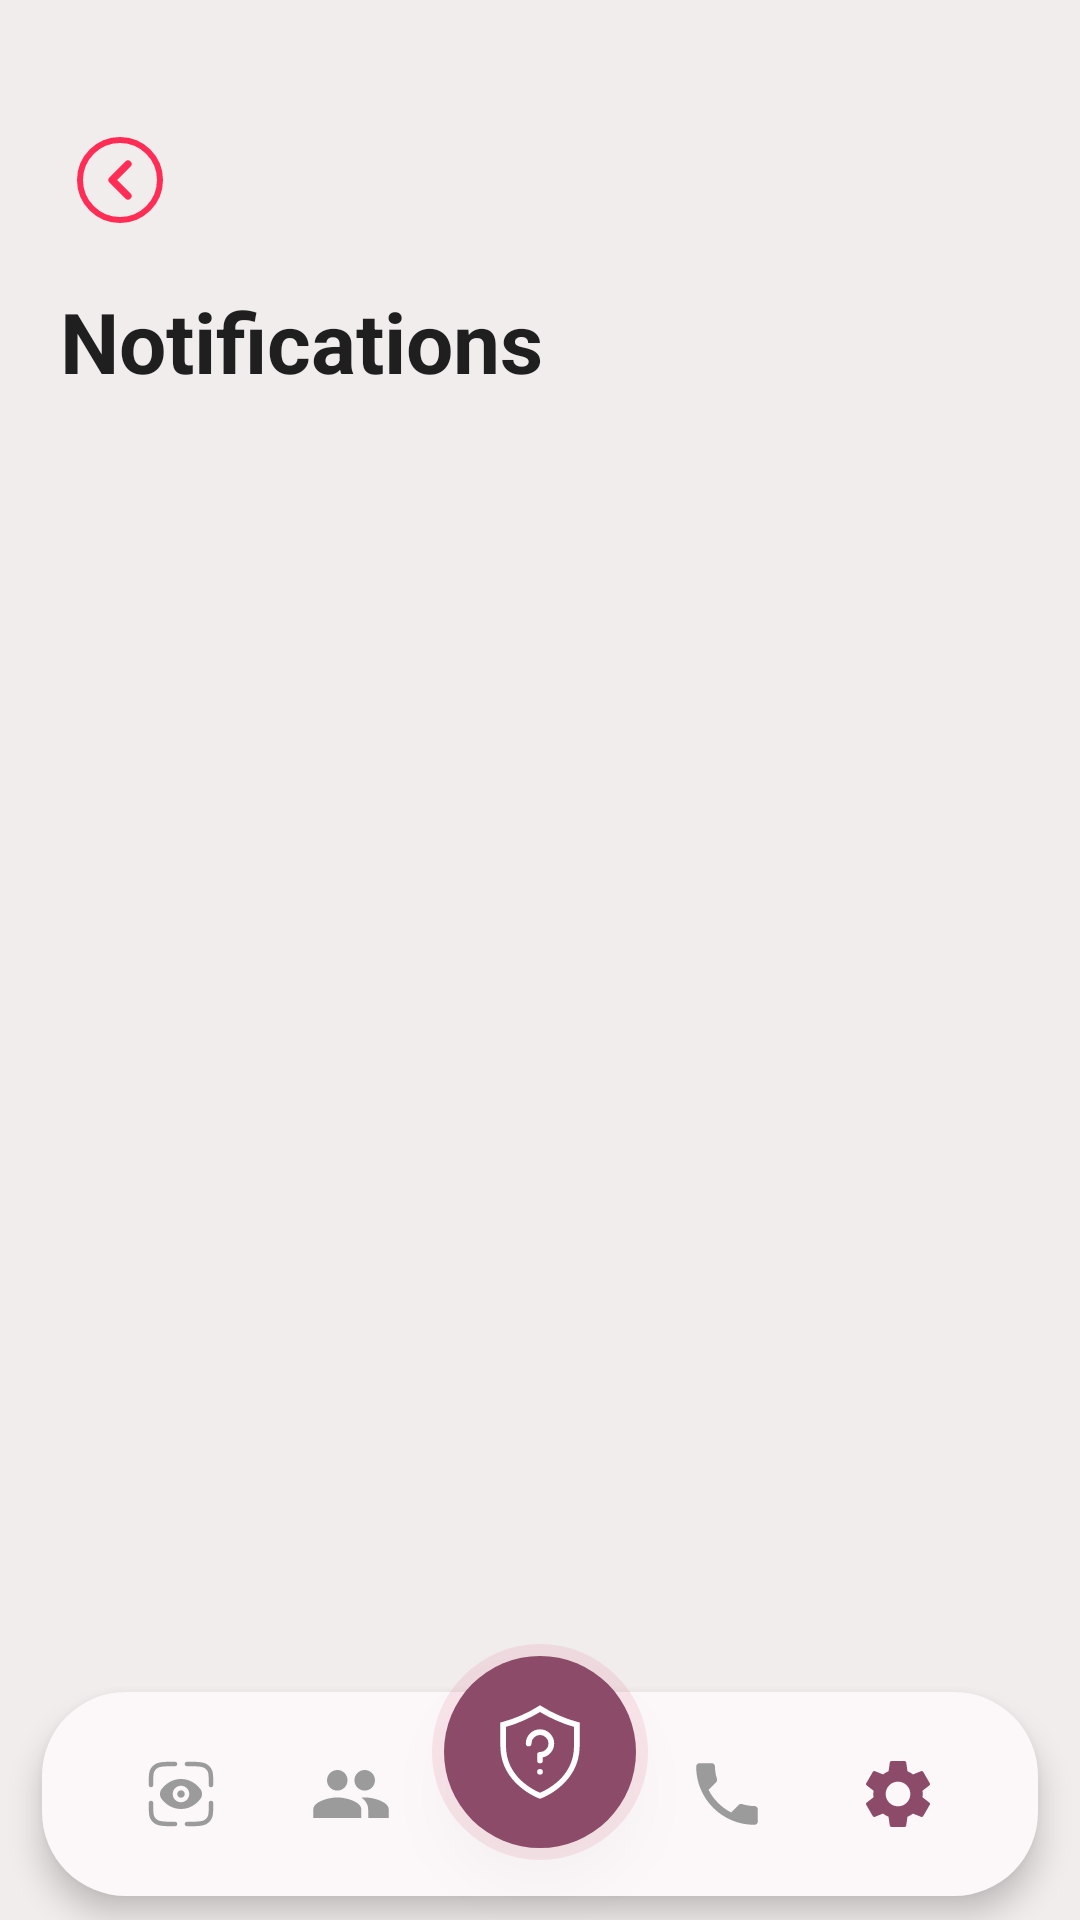

Icons on this 1080×1920 Android screen, each with the point to tap as point (x, y):
Back: point (120, 180)
Call: point (727, 1794)
Contacts: point (351, 1794)
Evidence: point (181, 1794)
Settings: point (898, 1794)
